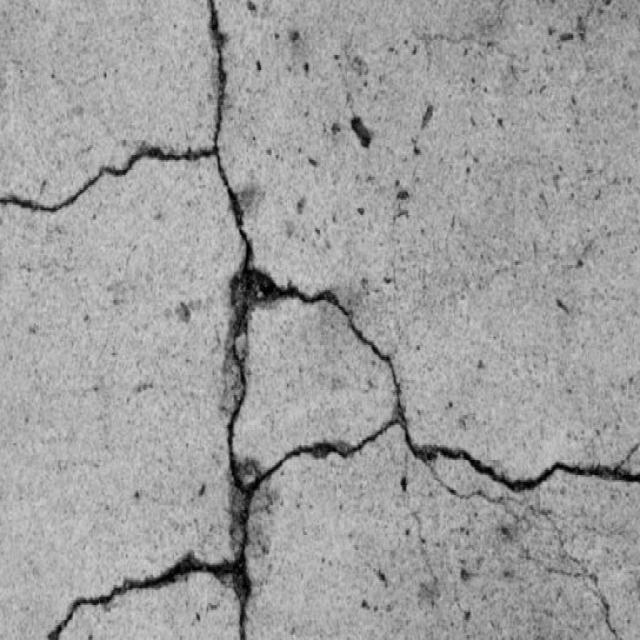SurfaceCrack: (4, 2, 426, 475)
